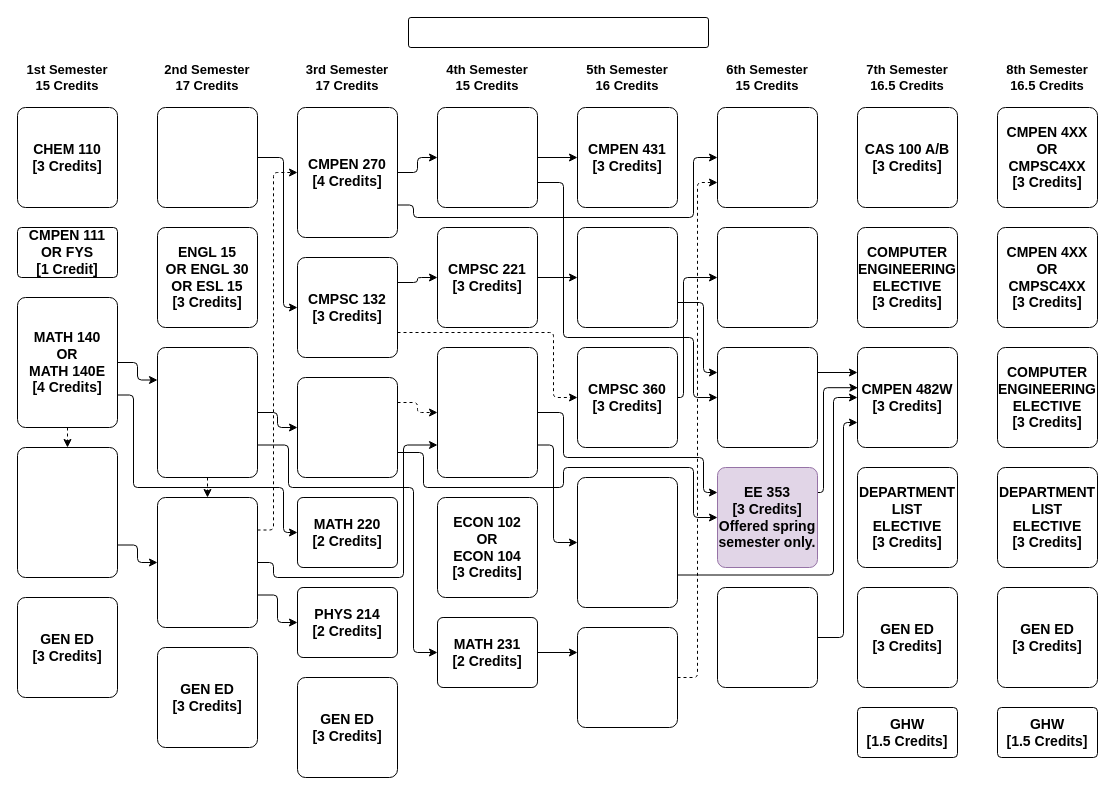
The diagram is 1115 pixels wide and 795 high, and some of its shapes have lost their labels. Here are the shapes that lost their labels. From the top down, the centre of each, then its label:
(558,32): Computer Engineering
(207,157): CMPSC 131 [3 Credits]
(487,157): CMPEN 331 [3 Credits]
(767,157): CMPEN 362 [3 Credits]
(627,277): CMPSC 311 [3 Credits]
(767,277): CMPSC 465 [3 Credits]
(207,412): MATH 141 OR MATH 141E [4 Credits]
(487,412): EE 210 [4 Credits]
(767,397): CMPSC 473 [3 Credits]
(347,427): MATH 250 [3 Credits]
(67,512): PHYS 211 [4 Credits]
(207,562): PHYS 212 [4 Credits]
(627,542): EE 310 [4 Credits]
(767,637): ENGL 202C [3 Credits]
(627,677): STAT 418 [3 Credits]
